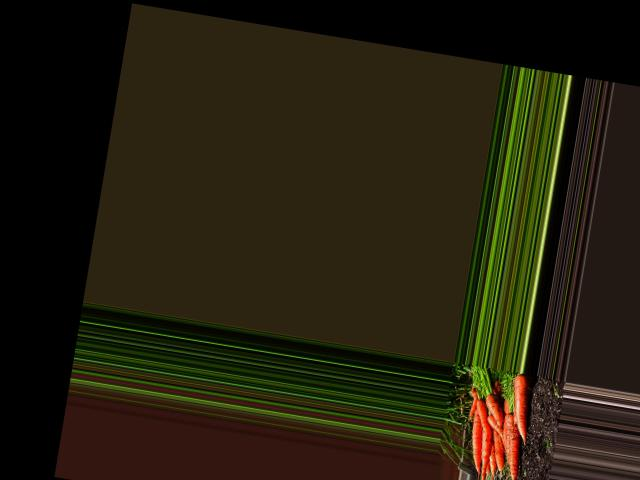carrot: (465, 396, 497, 476)
